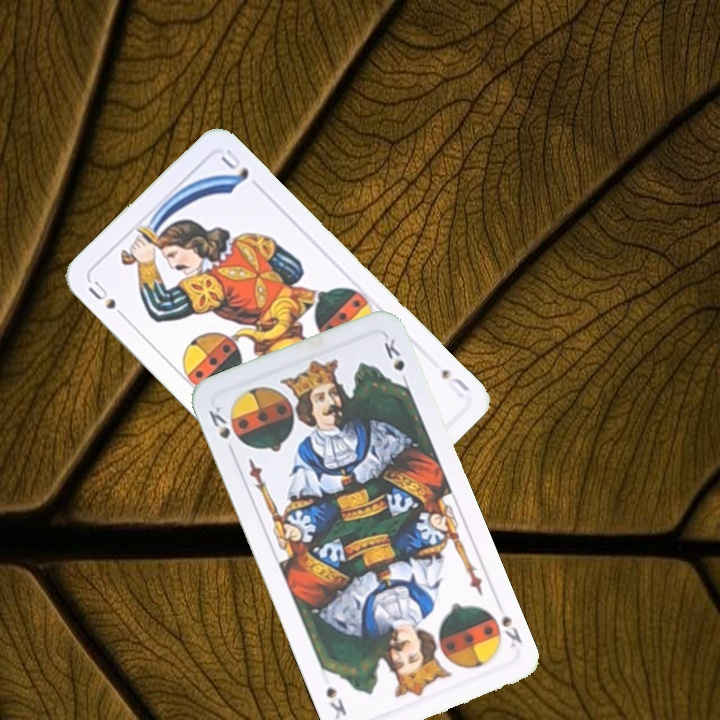SK: (204, 402, 233, 442), (497, 611, 525, 650)
SU: (84, 276, 131, 324), (437, 364, 472, 400)
